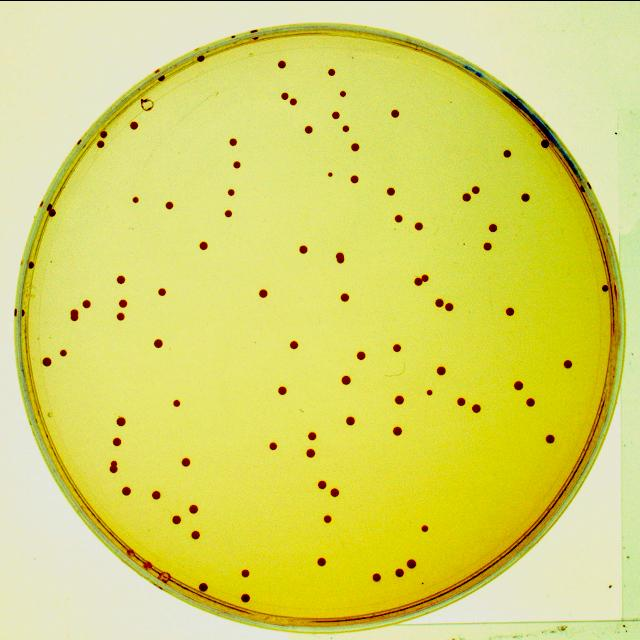colony: (70, 309, 79, 320), (110, 460, 118, 472), (116, 416, 126, 425), (341, 375, 351, 384), (336, 251, 344, 262), (42, 356, 51, 365), (82, 299, 91, 308), (122, 486, 131, 495), (172, 515, 181, 524), (191, 530, 200, 539), (199, 582, 208, 591), (241, 592, 250, 601), (372, 572, 381, 581), (521, 192, 530, 201), (489, 222, 498, 231), (395, 395, 404, 404), (514, 380, 524, 388), (152, 490, 160, 499), (189, 504, 198, 512), (154, 339, 162, 348), (290, 340, 298, 349), (330, 488, 339, 496), (395, 568, 404, 576), (408, 559, 416, 568), (346, 416, 355, 424), (341, 292, 349, 301), (462, 192, 471, 200), (435, 298, 444, 306), (445, 302, 454, 310), (506, 306, 514, 315), (438, 365, 446, 374), (394, 426, 402, 435), (472, 404, 481, 412), (526, 398, 535, 406), (546, 434, 555, 442), (564, 359, 572, 368), (166, 201, 174, 209), (130, 121, 138, 129), (200, 241, 208, 249), (318, 480, 326, 488), (281, 91, 289, 99), (351, 142, 359, 150), (119, 299, 128, 306), (112, 438, 121, 445), (181, 458, 190, 465), (259, 289, 268, 296), (306, 449, 315, 456), (358, 350, 365, 359), (388, 186, 395, 195), (484, 241, 491, 250), (415, 276, 422, 285), (118, 312, 125, 320), (241, 569, 249, 576), (100, 130, 108, 137), (279, 386, 286, 394), (270, 441, 278, 448), (309, 431, 316, 439), (318, 558, 326, 565), (300, 245, 308, 252), (279, 60, 286, 68), (332, 111, 340, 118), (351, 175, 359, 182), (391, 109, 399, 116), (415, 221, 422, 229), (472, 185, 480, 192), (541, 139, 549, 146), (421, 274, 429, 281), (49, 209, 56, 216), (118, 275, 125, 282), (159, 288, 166, 295), (225, 209, 232, 216), (324, 515, 331, 522), (394, 344, 401, 351), (305, 125, 312, 132), (395, 214, 402, 221), (504, 149, 511, 156), (458, 398, 465, 405), (602, 284, 609, 291), (234, 160, 240, 168), (421, 525, 429, 531), (174, 399, 180, 406), (228, 189, 235, 195), (230, 138, 236, 145), (329, 68, 335, 75), (342, 125, 349, 131), (198, 54, 205, 60), (60, 349, 66, 355), (98, 140, 104, 146), (290, 98, 296, 104), (340, 90, 346, 96), (132, 196, 139, 201), (29, 261, 34, 267), (426, 389, 432, 394), (328, 171, 332, 176)
